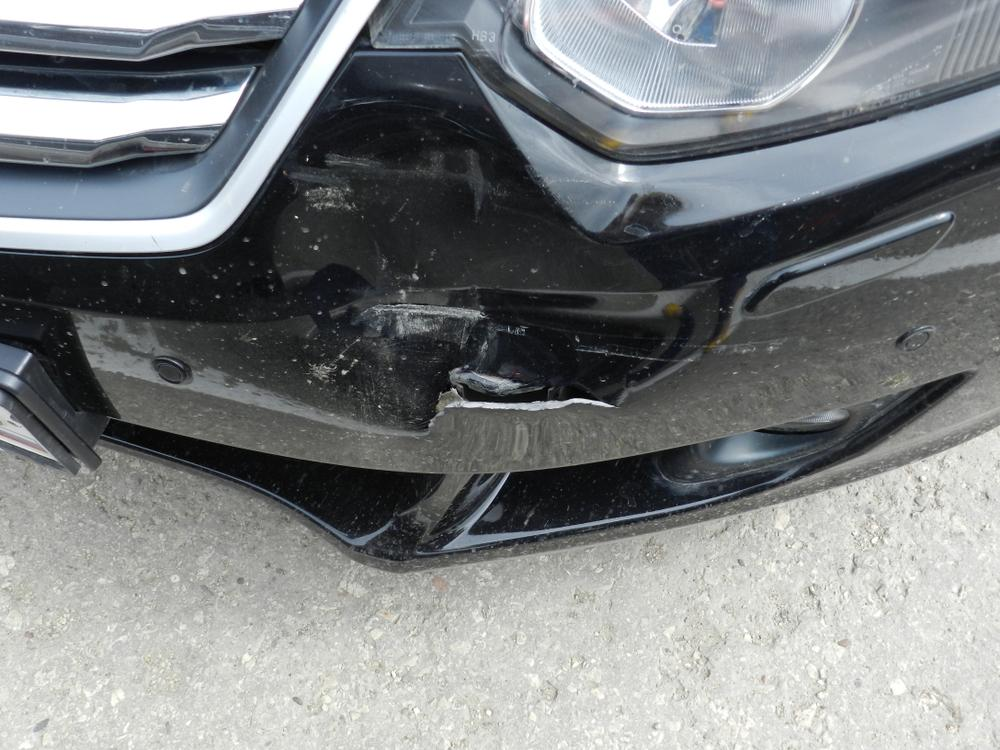crack: (403, 392, 630, 431)
dent: (270, 120, 733, 427)
